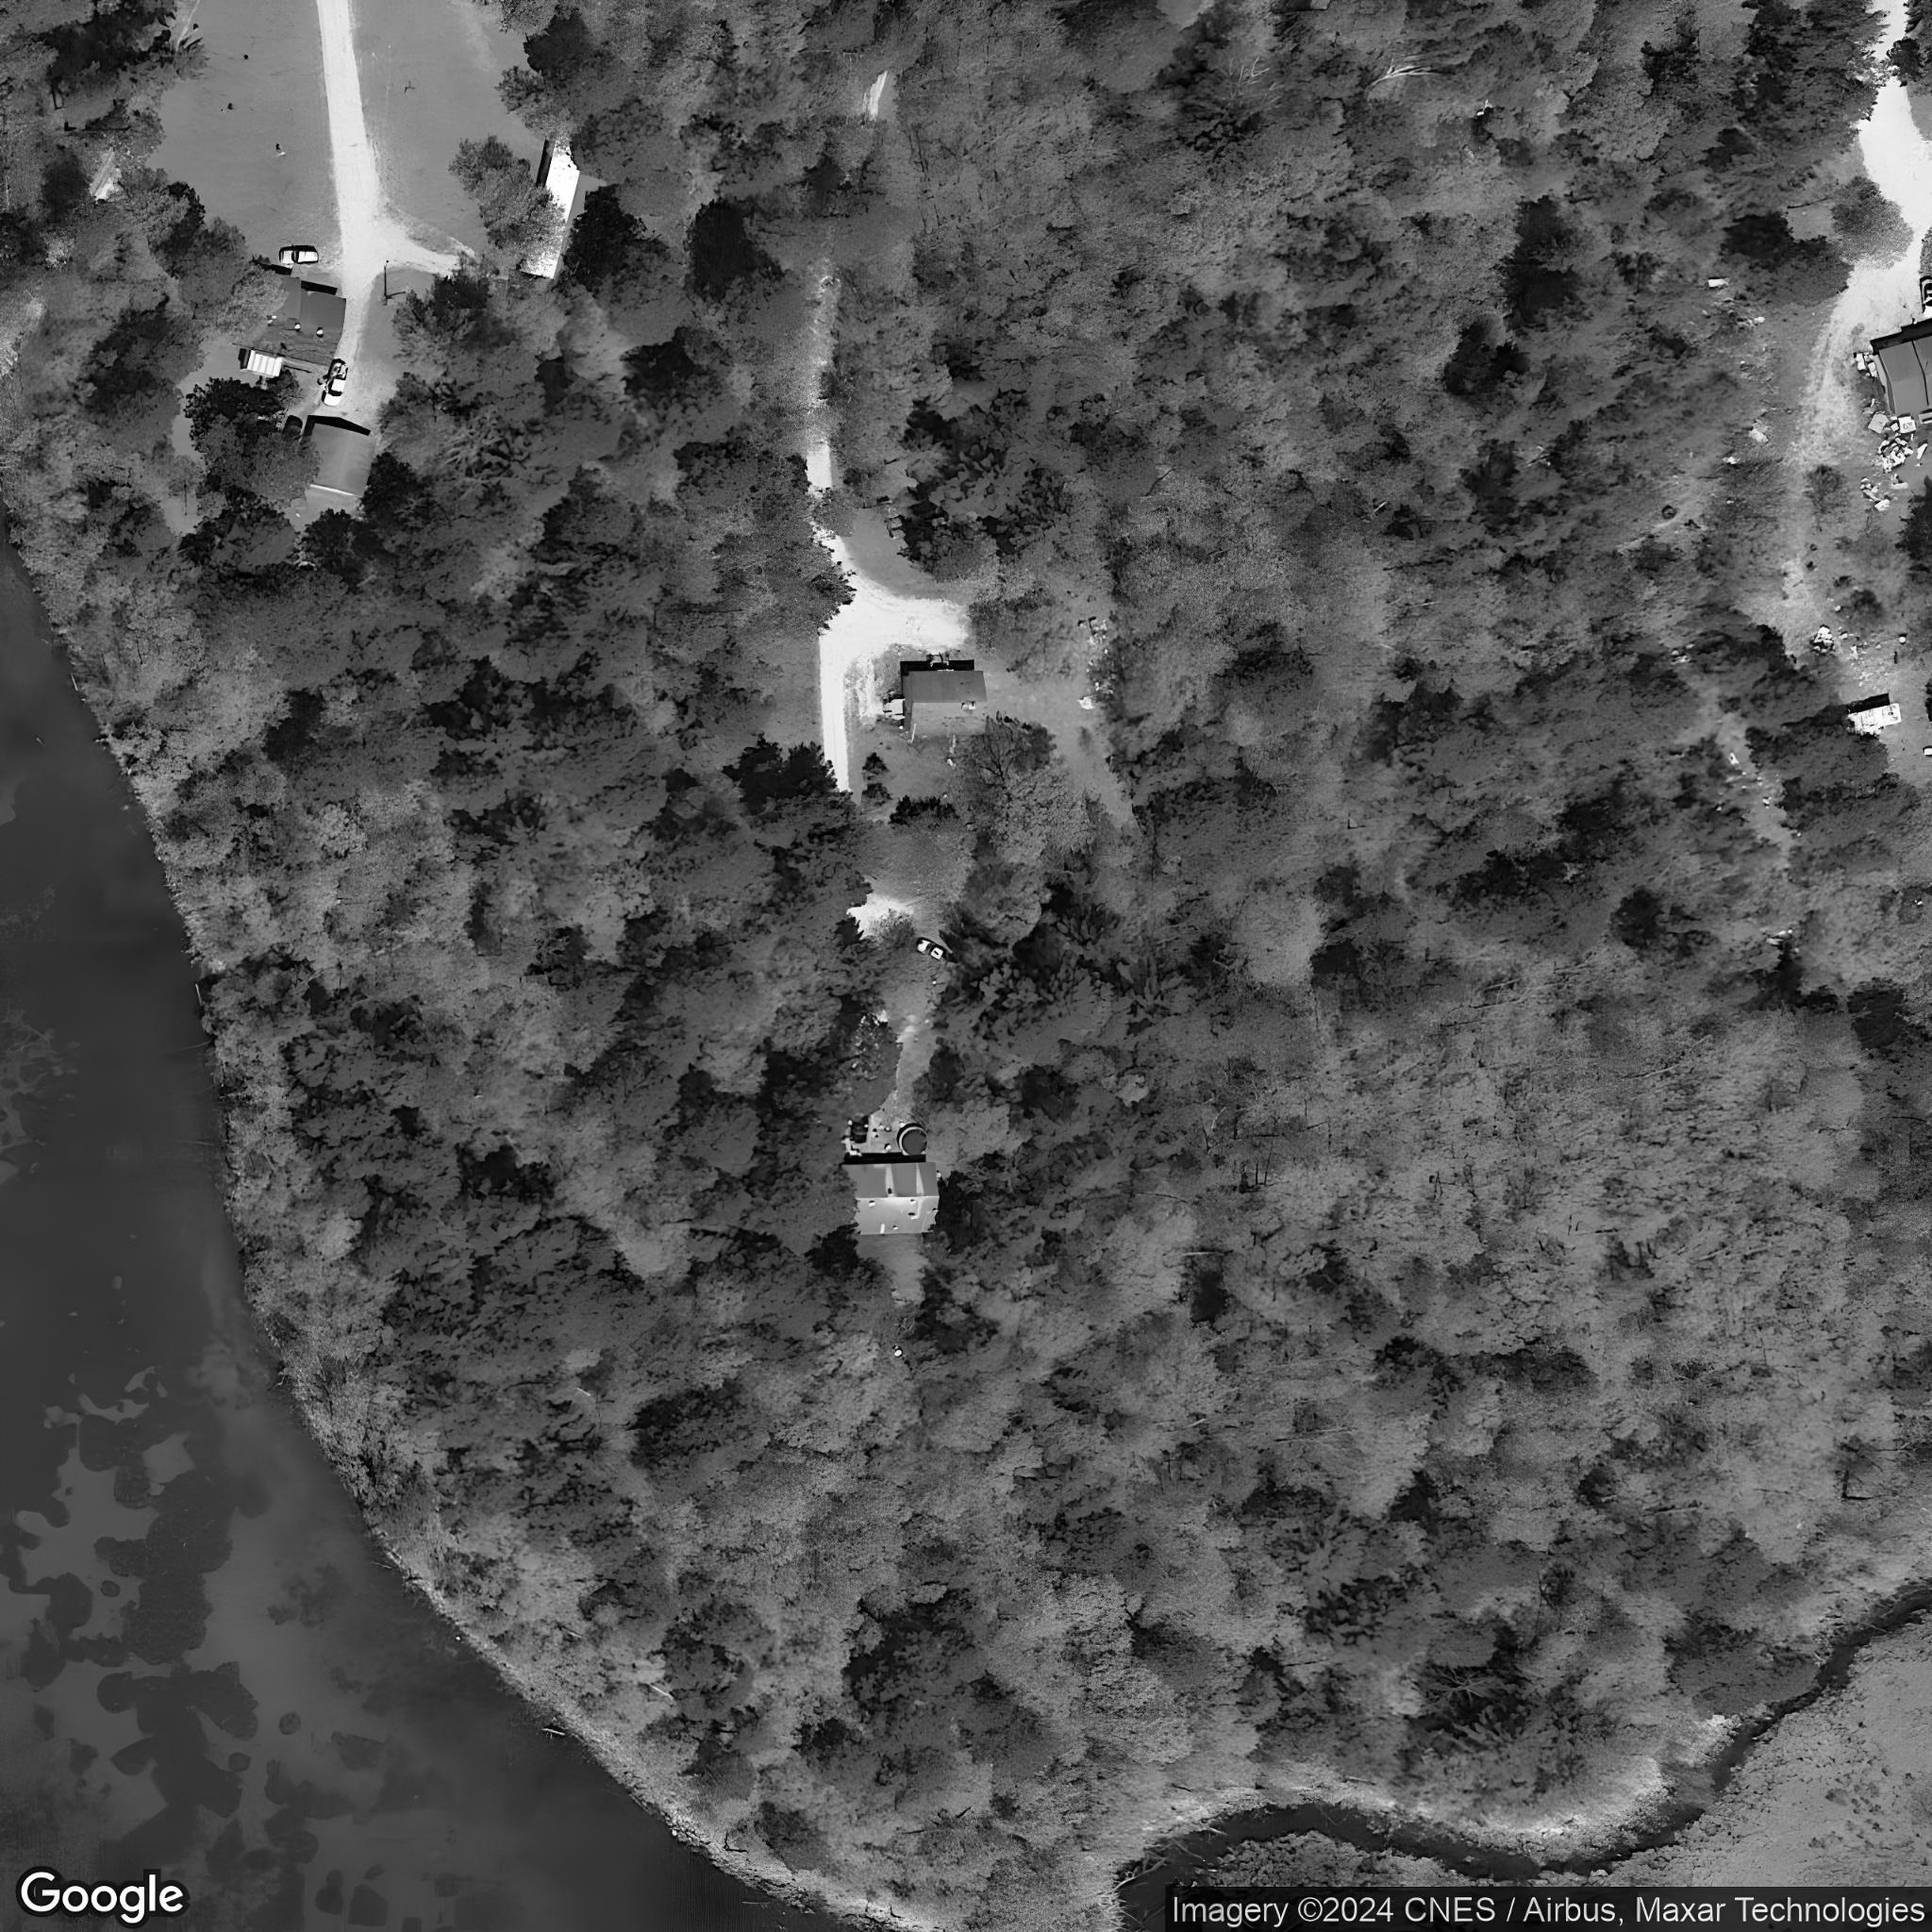Garage: (292, 419, 379, 499)
House: (226, 269, 350, 370), (837, 1159, 943, 1238), (902, 667, 989, 740), (1874, 333, 1932, 419)
Trailer: (515, 134, 589, 281)
